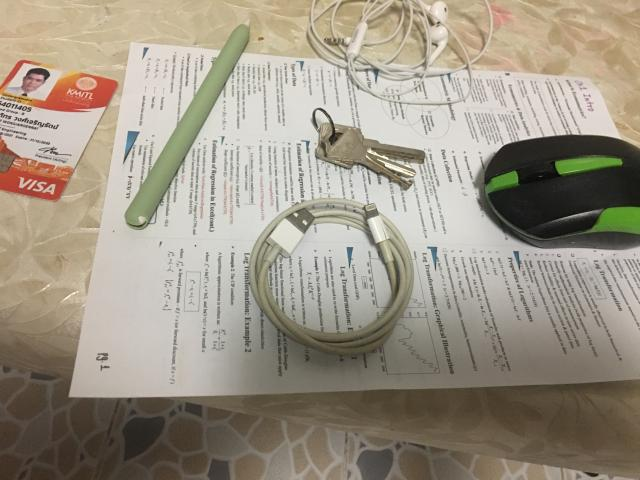Keys: (312, 109, 425, 188)
Mouse: (485, 135, 640, 249)
paper: (70, 44, 640, 398)
wire: (249, 198, 414, 355), (306, 0, 494, 105)
